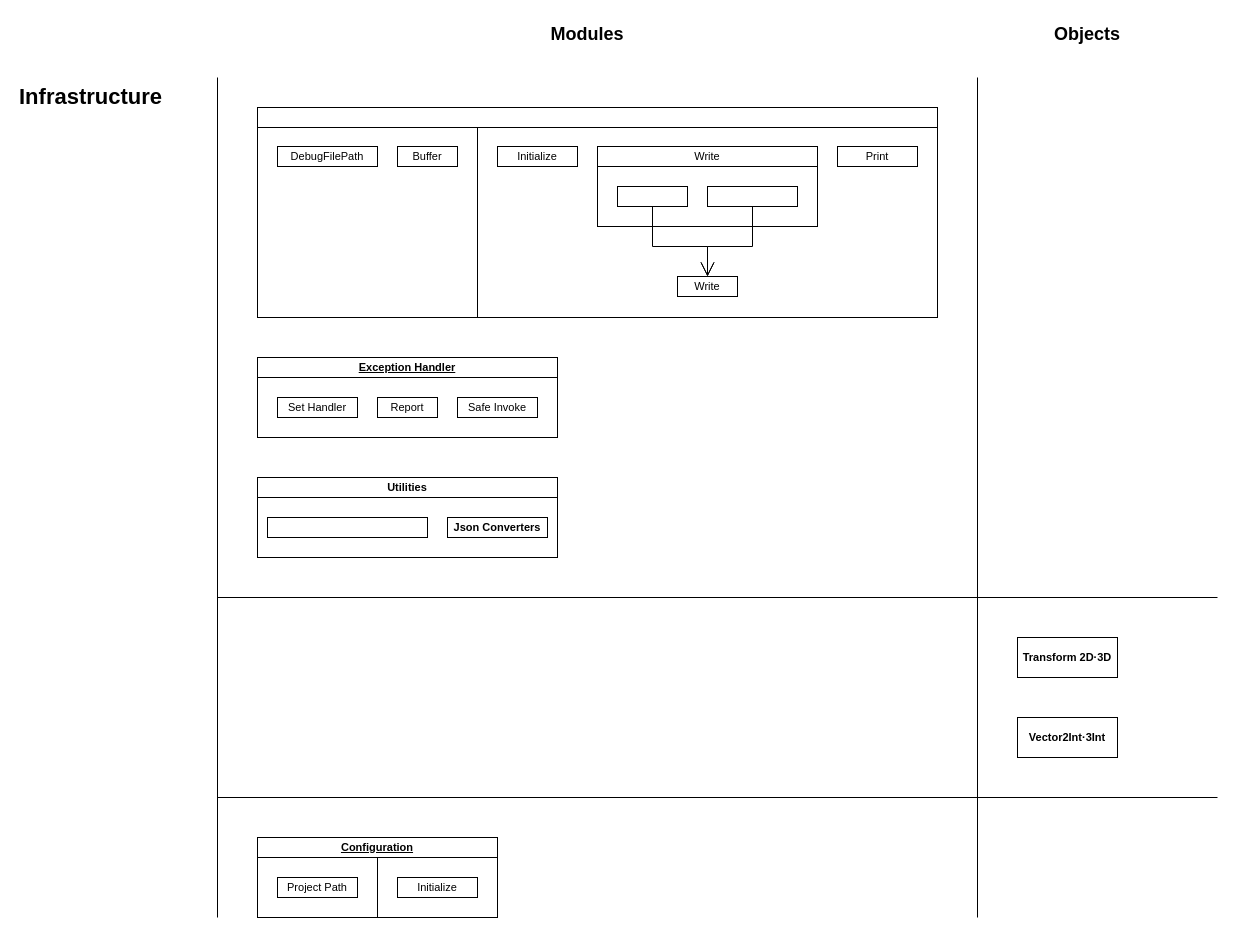
Image size: 1236x936. Some labels were removed from this diagram. Here are the shapes that lost their labels. From the top down, the centre of each, then its label:
At point 597,117: "Log System".
At point 652,196: "SmartWrite".
At point 752,196: "WriteCollection".
At point 347,527: "Data Formatting Extensions".
